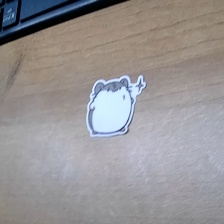mouse: (84, 74, 148, 136)
